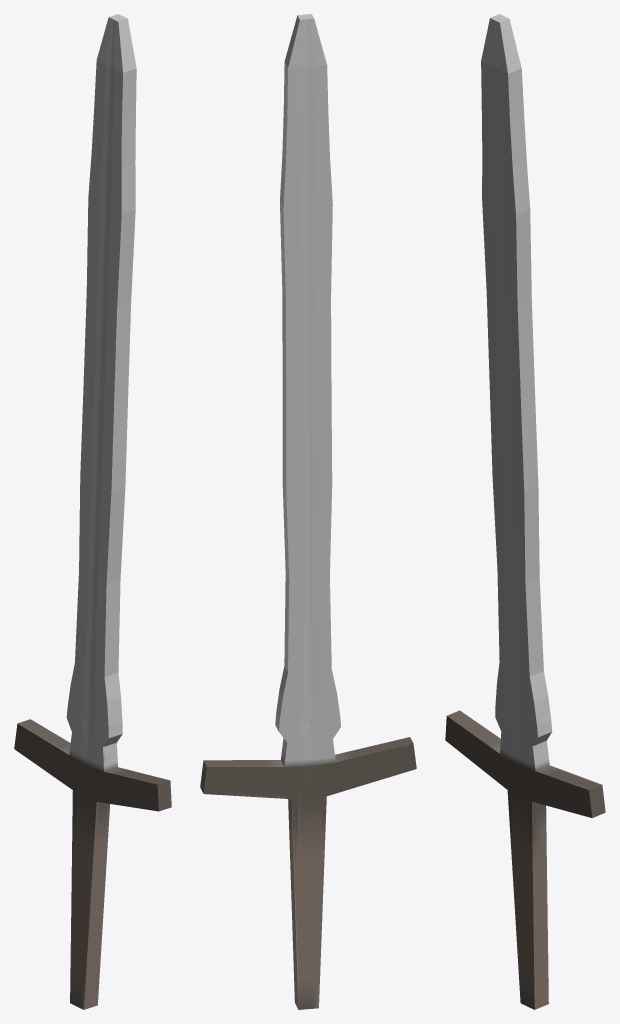
The model's file is sword_000080.obj.
The picture shows the model from 3 angles, left to right: view 1: azimuth 90°, elevation 25°; view 2: azimuth 150°, elevation 25°; view 3: azimuth 270°, elevation 25°; orthographic projection. The views are drawn at different scales.
Bounding box in the file's own units: 0.1137 × 0.6985 × 0.102.
